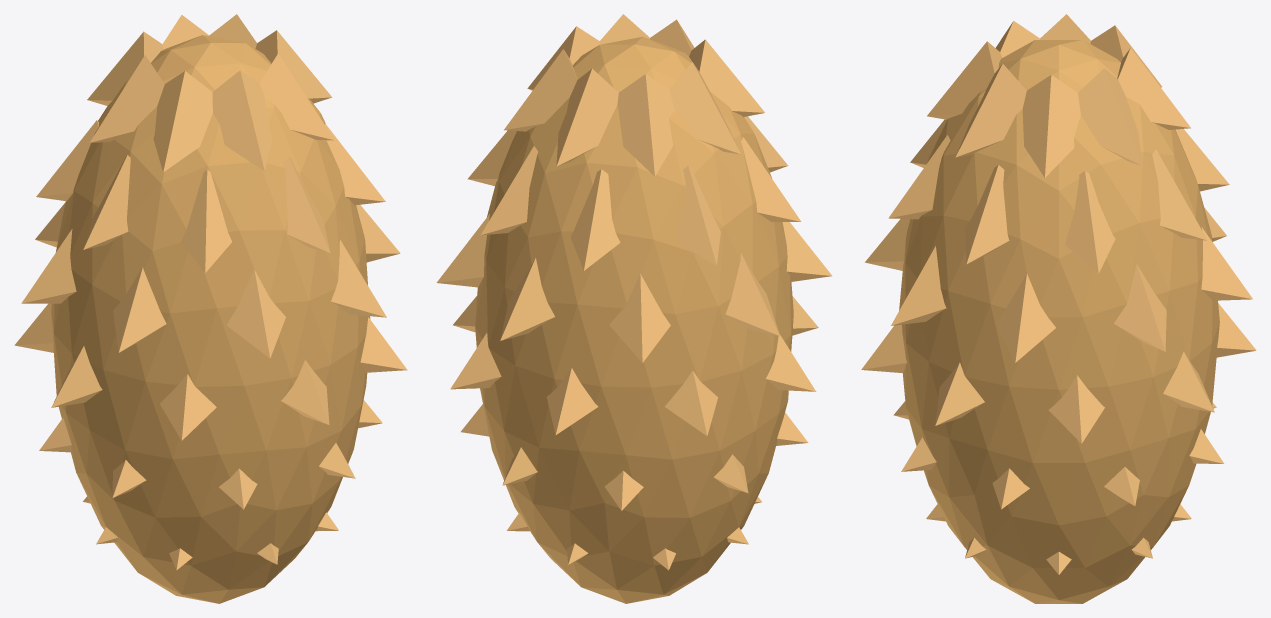
File: xmas_pinecone.glb
3 renders of one model, left to right at view 1: azimuth 30°, elevation 25°; view 2: azimuth 150°, elevation 25°; view 3: azimuth 270°, elevation 25°, orthographic.
Parts seen in each view (by area): view 1: Pinecone; view 2: Pinecone; view 3: Pinecone.
Boxes of the visible parts, x1,y1,x2,y2 form: Pinecone: [14, 14, 407, 603]; Pinecone: [436, 14, 831, 603]; Pinecone: [861, 14, 1256, 603].
Size of the model in its own units: 1.23 by 1.9 by 1.23.
